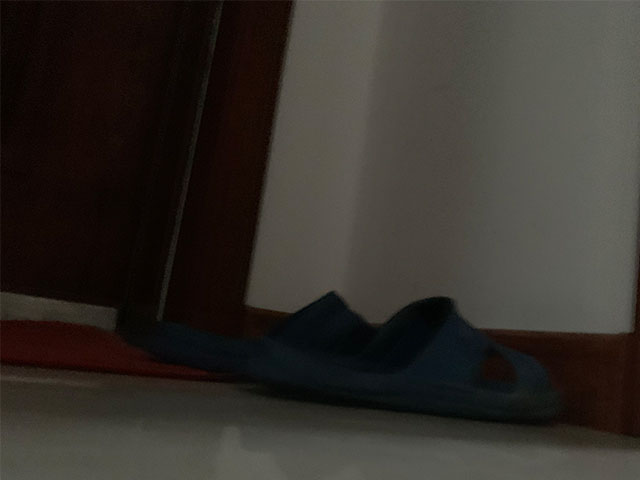carpet: (1, 317, 236, 381)
slippers: (253, 297, 573, 426), (116, 261, 368, 378)
